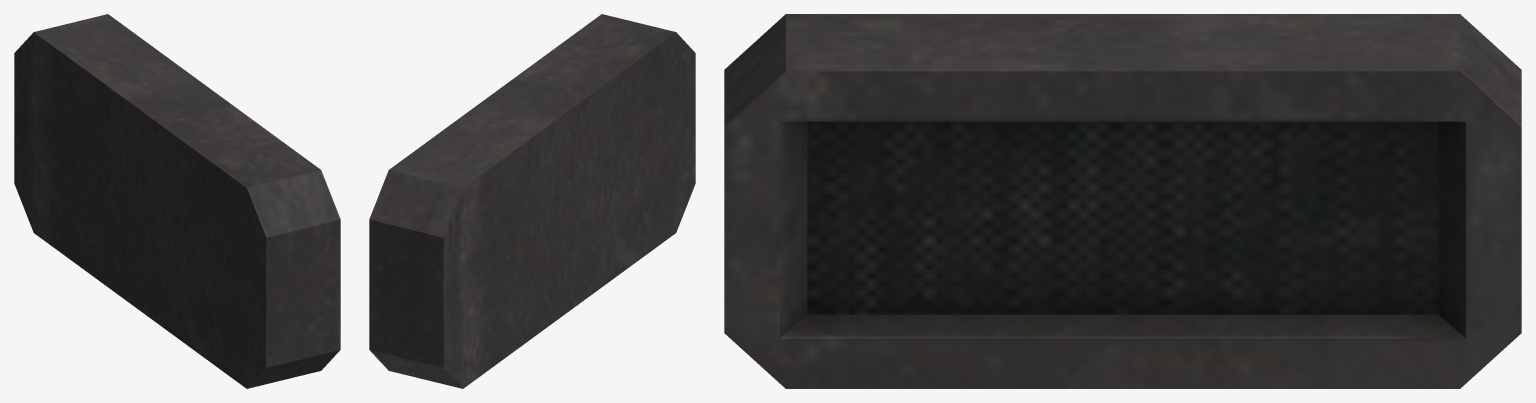
The model's file is Speaker.FBX.
The picture shows the model from 3 angles, left to right: view 1: azimuth 30°, elevation 25°; view 2: azimuth 150°, elevation 25°; view 3: azimuth 270°, elevation 25°; orthographic projection. The views are drawn at different scales.
Visible parts, largest first — view 1: Speaker; view 2: Speaker; view 3: Speaker.
Boxes of the visible parts, x1,y1,x2,y2 form: Speaker: [14, 14, 340, 388]; Speaker: [369, 14, 695, 388]; Speaker: [724, 14, 1521, 388].
Bounding box in the file's own units: 5.03 × 12.98 × 29.53.
